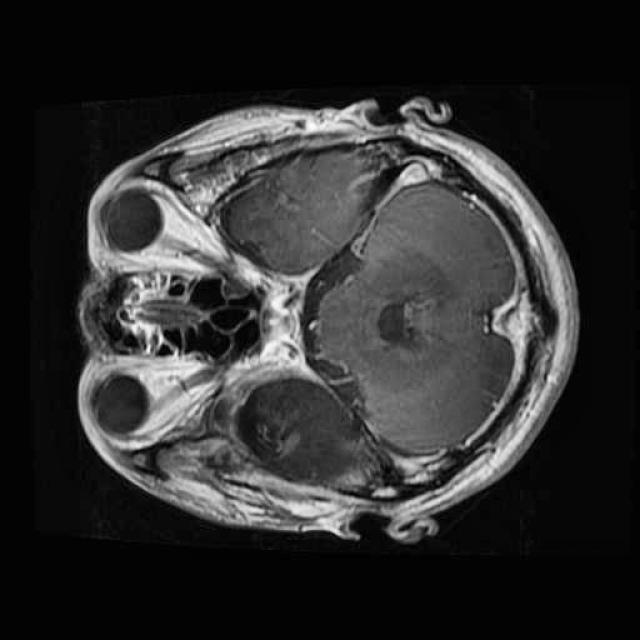Non-Tumor: (243, 360, 418, 510)
